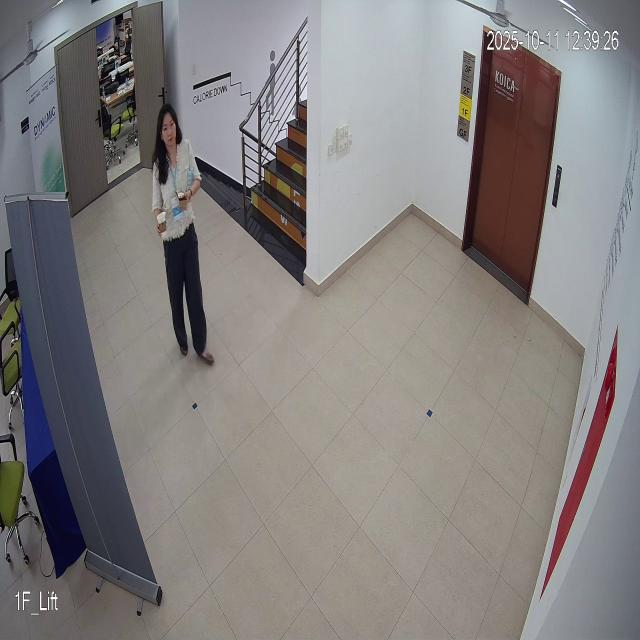face: (153, 96, 188, 156)
